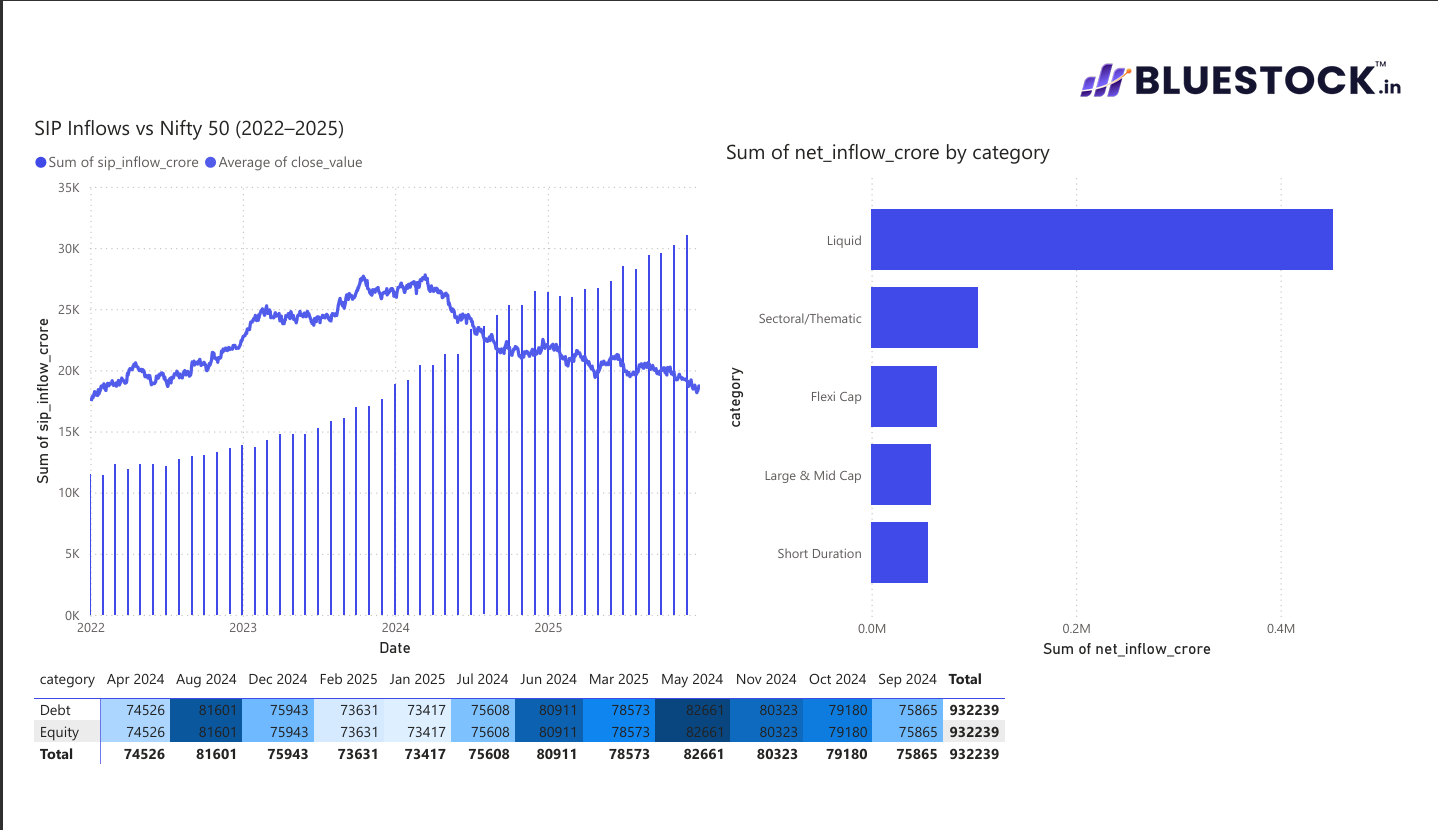

Layout of this report page (visuals, bound fields, positions):
{"tool":"powerbi","page":{"name":"Page 4","canvas":[1280,720],"ordinal":3},"visuals":[{"type":"lineClusteredColumnComboChart","title":"SIP Inflows vs Nifty 50 (2022–2025)","fields":{"Category":["Date_Dim.Date"],"Y":["Sum(monthly_sip_inflows_clean.sip_inflow_crore)"],"Y2":["Avg(benchmark_indices_clean.close_value)"]},"box":[0,80,640,508],"z":0},{"type":"pivotTable","fields":{"Rows":["fund_master_clean.category"],"Columns":["Date_Dim.MonthYear"],"Values":["Sum(category_inflows_clean.net_inflow_crore)"]},"box":[0,588,1280,132],"z":1000},{"type":"clusteredBarChart","fields":{"Category":["category_inflows_clean.category"],"Y":["Sum(category_inflows_clean.net_inflow_crore)"]},"box":[640,102,632,486],"z":2000},{"type":"image","box":[972,16,300,64],"z":3000}]}

Visuals, with their boxes in screenshot pixels (x1, y1, x2, y2), scaled from the page's 1280x720 canvas onto the 1438x830 screenshot:
"SIP Inflows vs Nifty 50 (2022–2025)" lineClusteredColumnComboChart: bbox=[0, 92, 719, 678]
pivotTable - fund_master_clean.category x Date_Dim.MonthYear: bbox=[0, 678, 1437, 829]
clusteredBarChart - category_inflows_clean.category x Sum(category_inflows_clean.net_inflow_crore): bbox=[719, 118, 1429, 678]
image: bbox=[1092, 18, 1429, 92]
